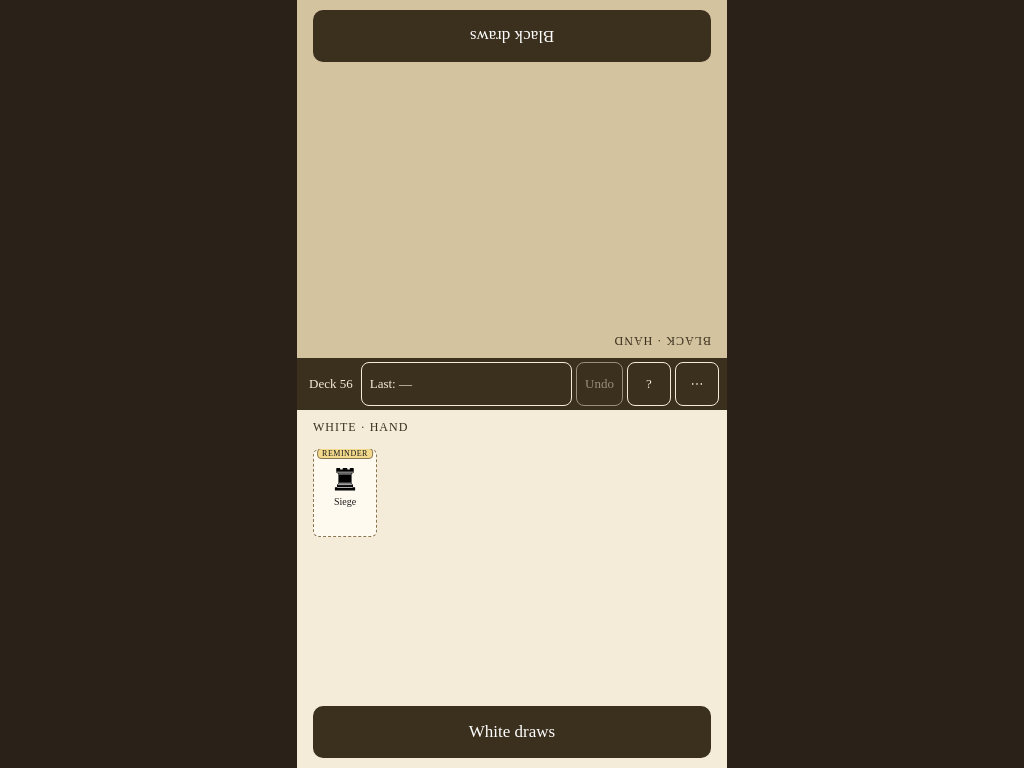
Test: a reminder card opens the form with the card
Click the button "Reminder Siege": [345, 493] box [313, 449, 377, 537]
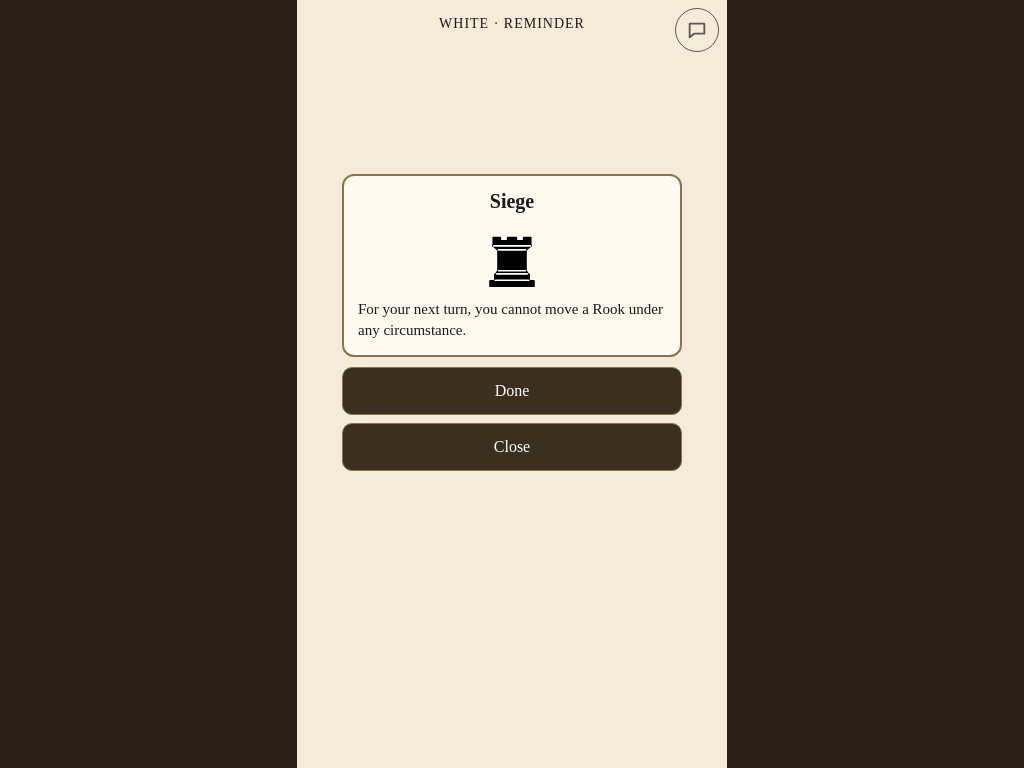
Click the button named "Feedback about this card": [697, 30] box [675, 8, 719, 52]
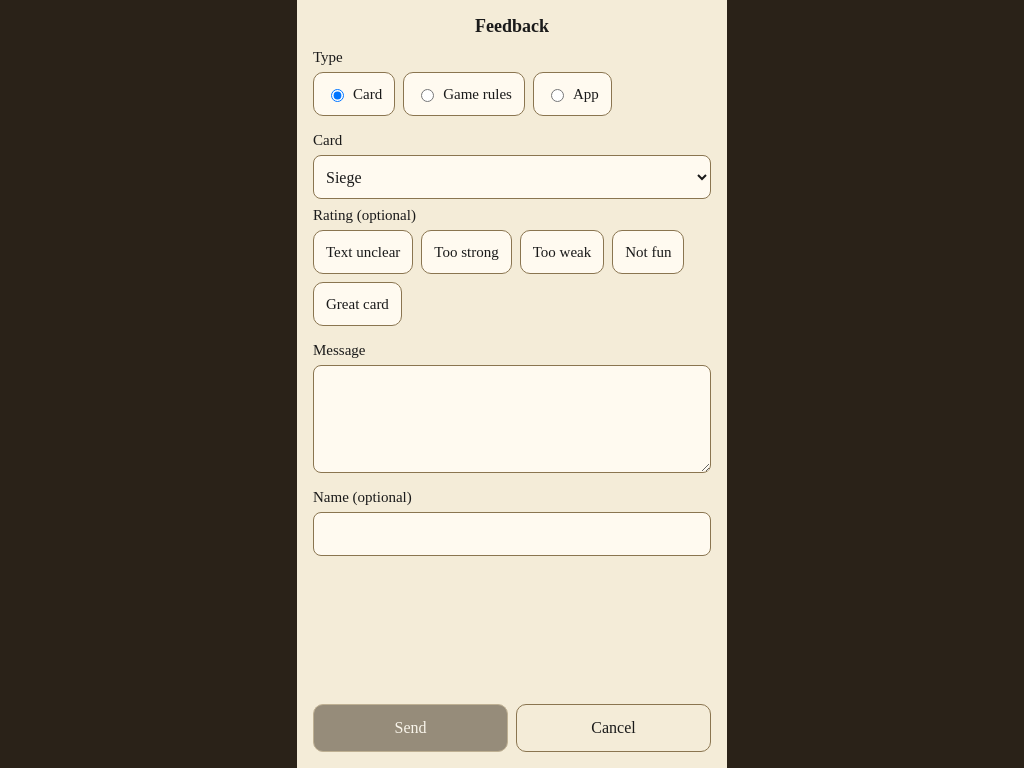
Expected: the radio button labelled "Card" is checked, [331, 89, 344, 102]
Expected: the dropdown labelled "Card" shows "Siege", [313, 155, 711, 199]
